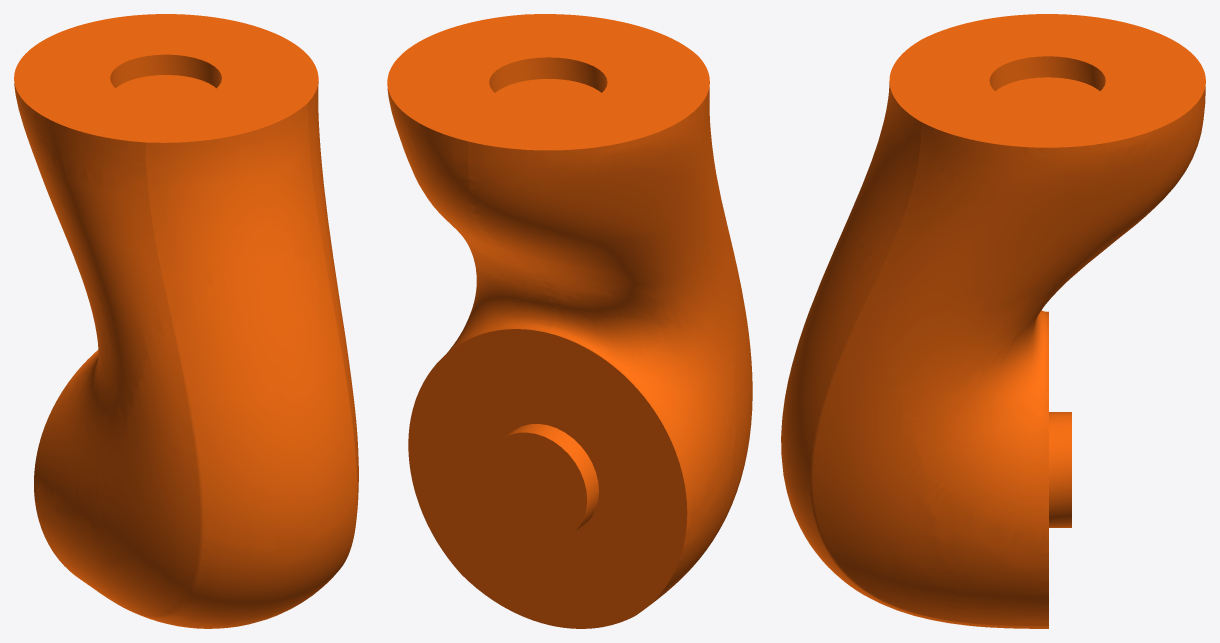
3 views of the same model, side by side, from view 1: azimuth 30°, elevation 25°; view 2: azimuth 150°, elevation 25°; view 3: azimuth 270°, elevation 25° (orthographic). The views are drawn at different scales.
Parts seen in each view (by area): view 1: link_4; view 2: link_4; view 3: link_4.
Part boxes in pixels (x1=…): link_4: x1=14, y1=14, x2=358, y2=628; link_4: x1=387, y1=14, x2=752, y2=628; link_4: x1=781, y1=14, x2=1205, y2=628.
Size of the model in its own units: 0.136 by 0.2525 by 0.1826.
